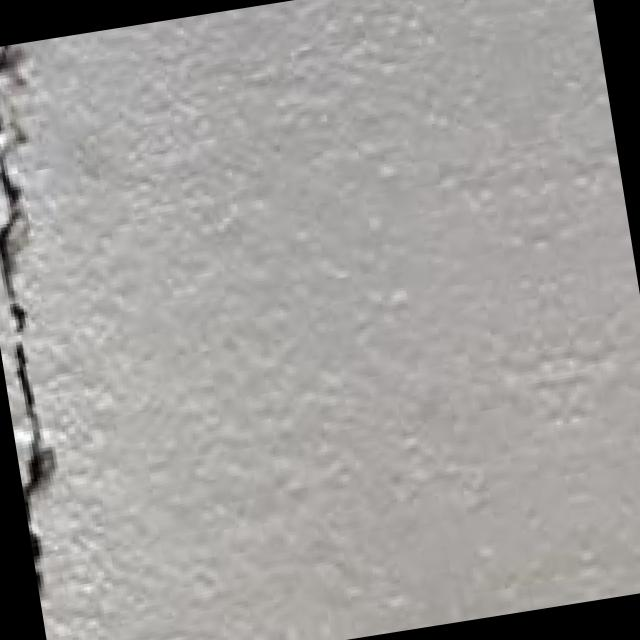crack: (0, 26, 215, 603)
